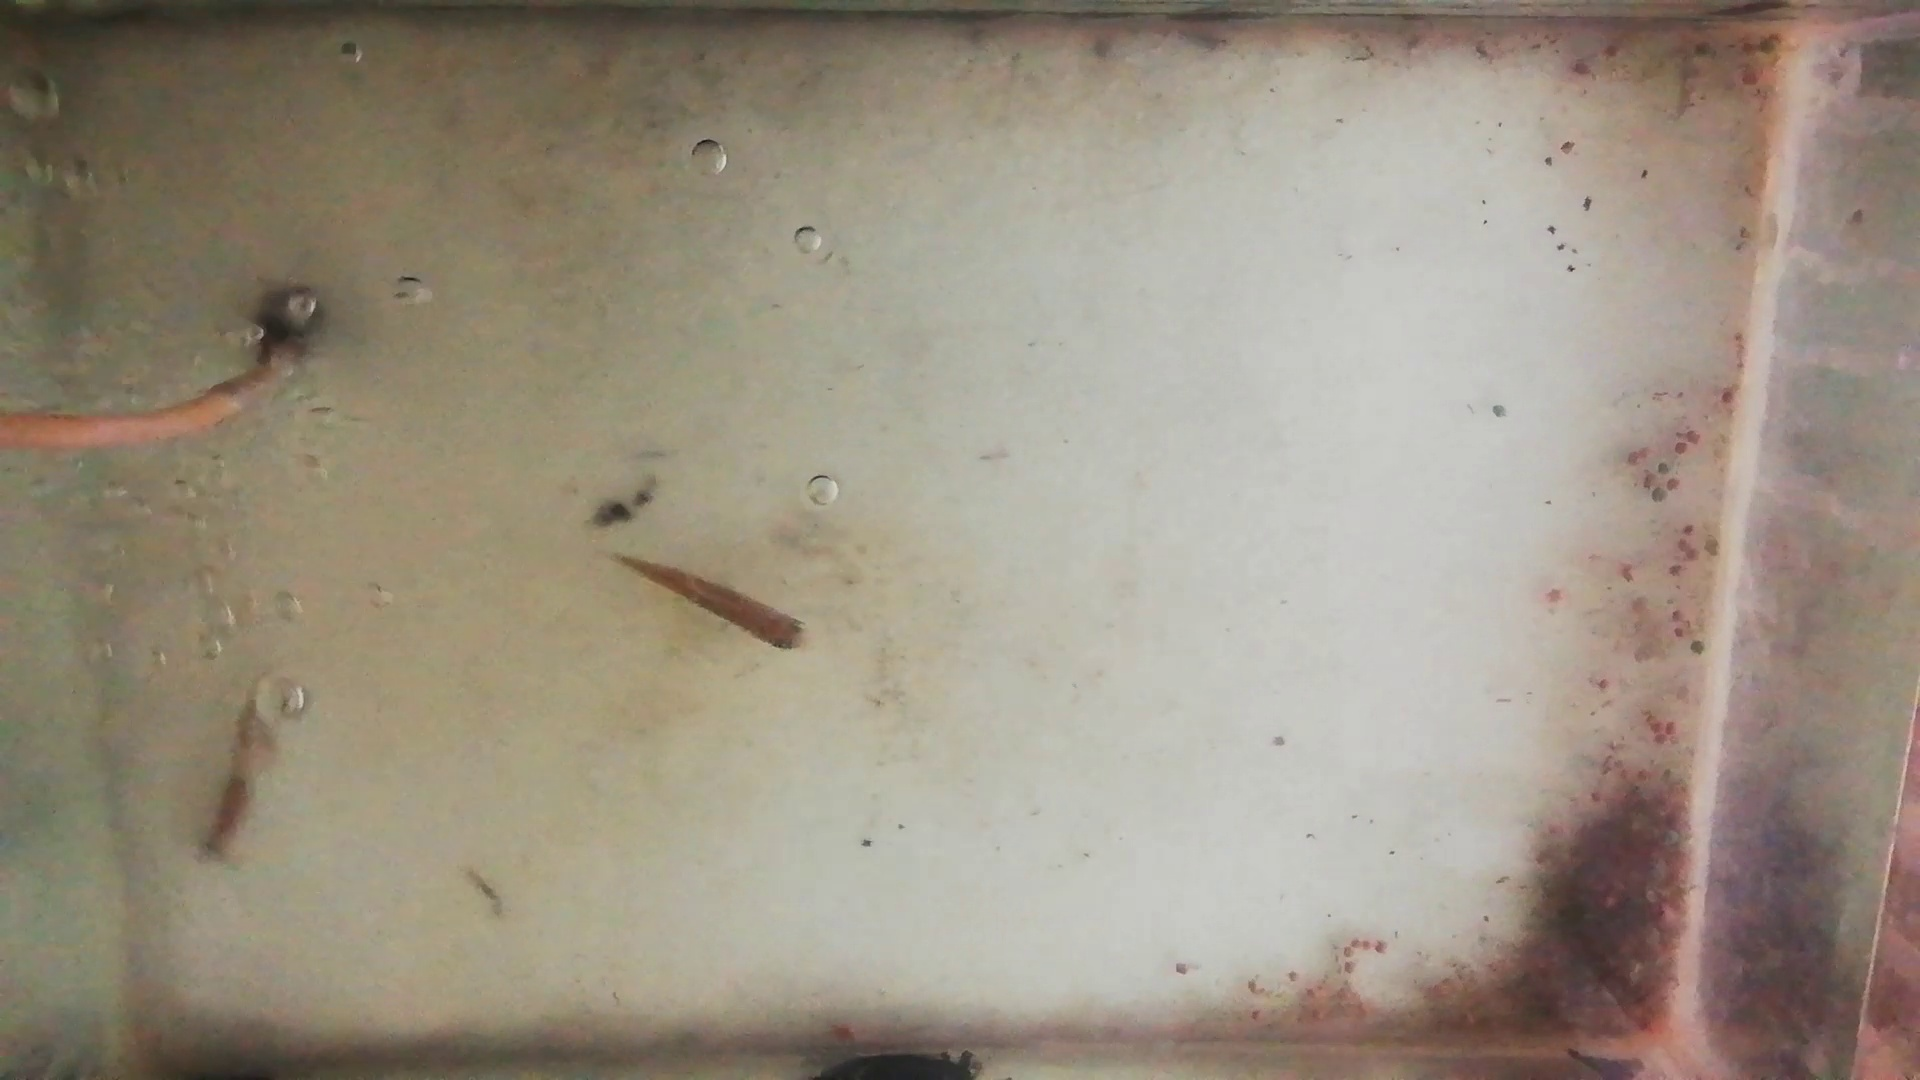fish: (609, 551, 808, 654), (200, 676, 272, 869)
